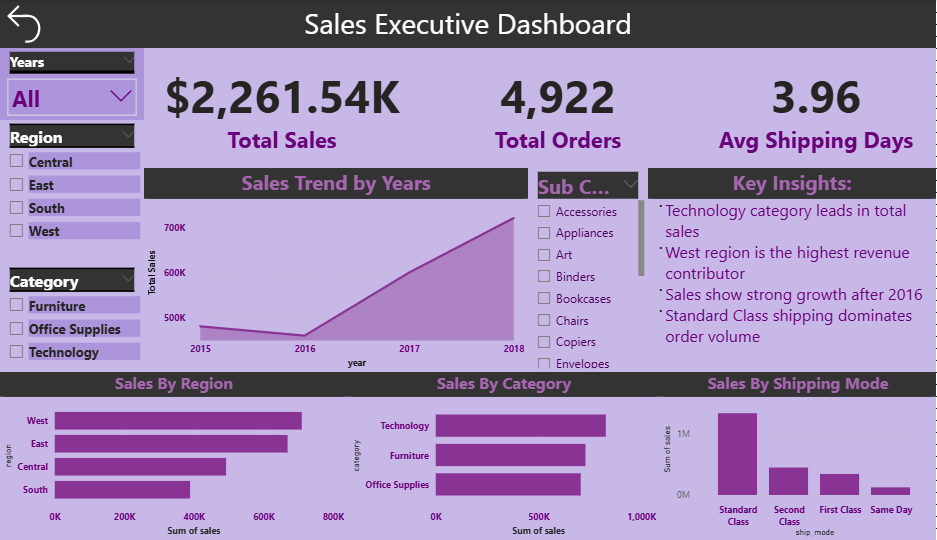

This screenshot's page, from the dashboard's own definition file:
{"tool":"powerbi","page":{"name":"Page 2","canvas":[1280,720],"ordinal":0},"visuals":[{"type":"card","fields":{"Values":["Table.Total Sales"]},"box":[192,64,368,160],"z":0},{"type":"card","fields":{"Values":["Table.Total Orders"]},"box":[560,64,368,160],"z":1000},{"type":"card","fields":{"Values":["Table.Avg Shipping Days"]},"box":[928,64,320,160],"z":2000},{"type":"areaChart","title":"Sales Trend  by Years","fields":{"Category":["sales_clean.year"],"Y":["Table.Total Sales"]},"box":[192,224,512,272],"z":3000},{"type":"barChart","title":"Sales By Region","fields":{"Category":["sales_clean.region"],"Y":["Sum(sales_clean.sales)"]},"box":[0,496,464,224],"z":4000},{"type":"barChart","title":"Sales By Category","fields":{"Y":["Sum(sales_clean.sales)"],"Category":["sales_clean.category"]},"box":[464,496,416,224],"z":5000},{"type":"textbox","box":[0,0,1248,64],"z":6000},{"type":"clusteredColumnChart","title":"Sales By Shipping Mode","fields":{"Category":["sales_clean.ship_mode"],"Y":["Sum(sales_clean.sales)"]},"box":[880,496,368,224],"z":8000},{"type":"slicer","fields":{"Values":["sales_clean.year"]},"box":[0,64,192,96],"z":9000},{"type":"slicer","fields":{"Values":["sales_clean.region"]},"box":[0,160,192,192],"z":10000},{"type":"slicer","fields":{"Values":["sales_clean.category"]},"box":[0,352,192,144],"z":11000},{"type":"actionButton","box":[0,0,80,64],"z":11001},{"type":"slicer","fields":{"Values":["sales_clean.sub_category"]},"box":[704,224,160,272],"z":11002},{"type":"textbox","title":"Key Insights:","box":[864,224,384,272],"z":11003}]}

Visuals, with their boxes on the page's 1280x720 design canvas (x1, y1, x2, y2). These are canvas units, not pixel positions in the 937x540 screenshot, which may show the page scaled, cropped or inside an application window:
card - Table.Total Sales: (x1=192, y1=64, x2=560, y2=224)
card - Table.Total Orders: (x1=560, y1=64, x2=928, y2=224)
card - Table.Avg Shipping Days: (x1=928, y1=64, x2=1248, y2=224)
"Sales Trend  by Years" areaChart: (x1=192, y1=224, x2=704, y2=496)
"Sales By Region" barChart: (x1=0, y1=496, x2=464, y2=720)
"Sales By Category" barChart: (x1=464, y1=496, x2=880, y2=720)
textbox: (x1=0, y1=0, x2=1248, y2=64)
"Sales By Shipping Mode" clusteredColumnChart: (x1=880, y1=496, x2=1248, y2=720)
slicer - sales_clean.year: (x1=0, y1=64, x2=192, y2=160)
slicer - sales_clean.region: (x1=0, y1=160, x2=192, y2=352)
slicer - sales_clean.category: (x1=0, y1=352, x2=192, y2=496)
actionButton: (x1=0, y1=0, x2=80, y2=64)
slicer - sales_clean.sub_category: (x1=704, y1=224, x2=864, y2=496)
"Key Insights:" textbox: (x1=864, y1=224, x2=1248, y2=496)
